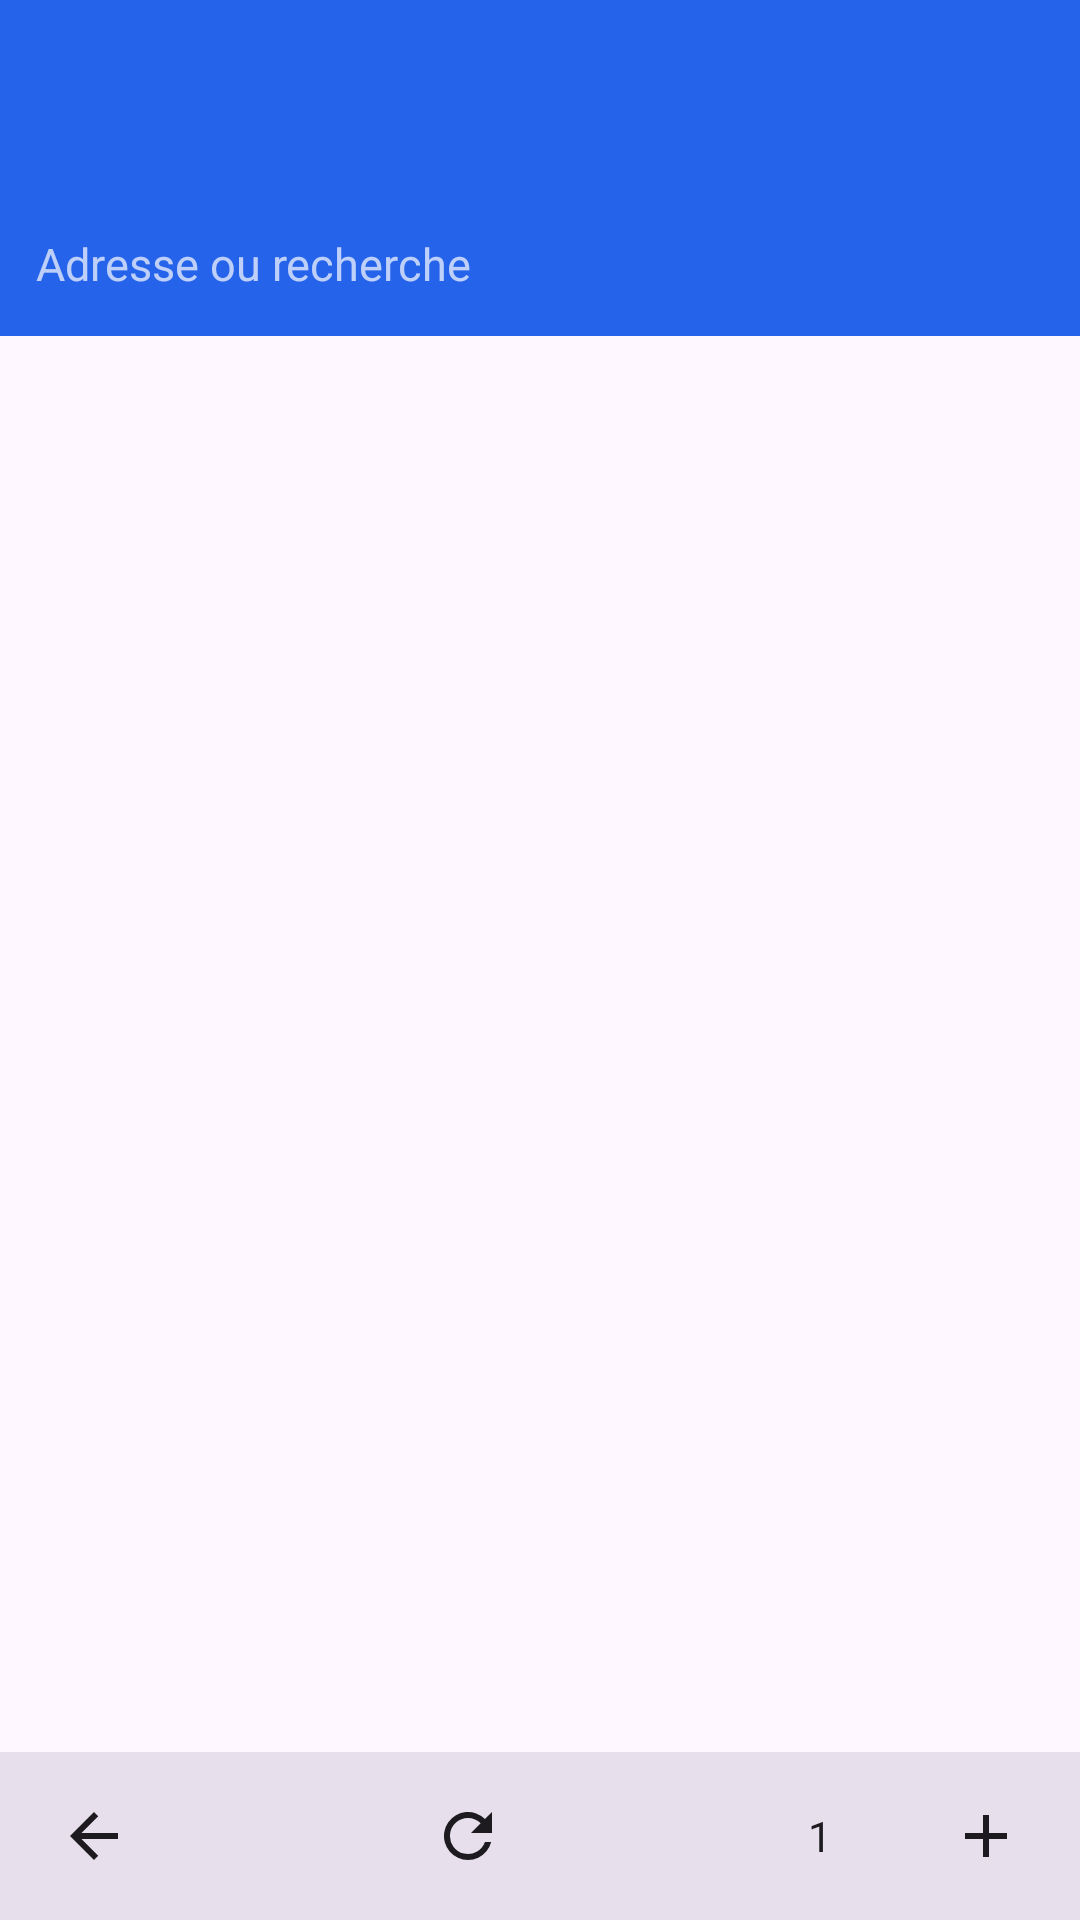

Screen size 1080*1920. Icon name, then its center in pixels as (x=x, y=y):
Nouvel onglet: (x=986, y=1836)
Précédent: (x=94, y=1836)
Recharger: (x=468, y=1836)
